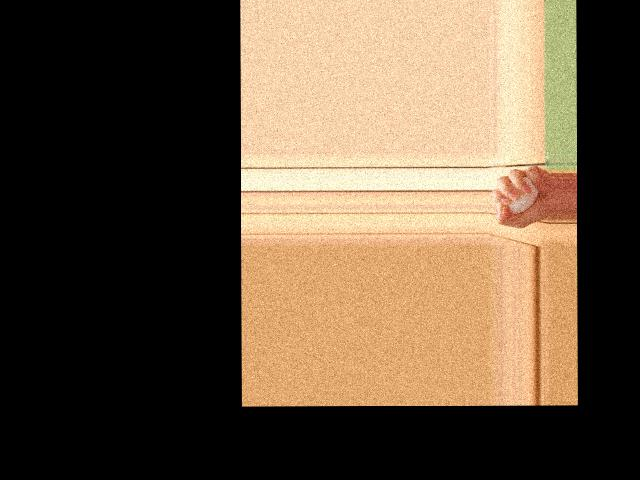egg: (508, 176, 538, 213)
